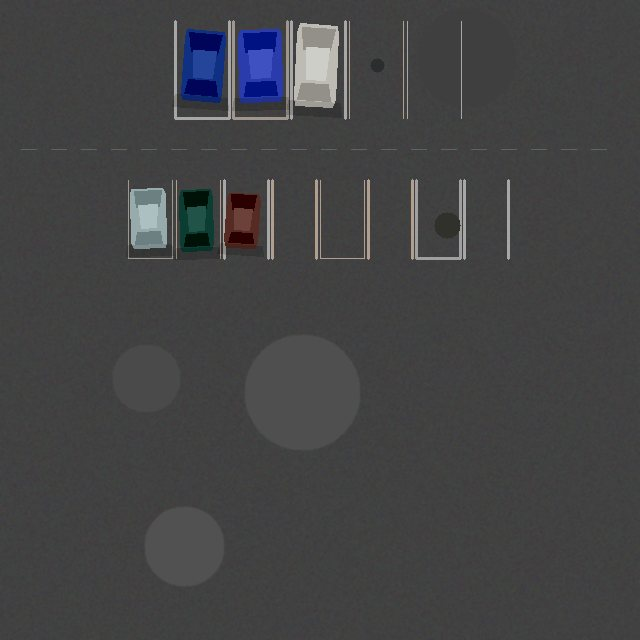space-empty: (349, 21, 403, 118), (407, 21, 461, 118), (272, 180, 316, 258), (320, 180, 364, 258), (368, 180, 412, 258), (416, 180, 460, 258), (464, 180, 508, 258)
space-occupied: (175, 21, 229, 118), (233, 21, 287, 118), (291, 21, 345, 118), (128, 180, 172, 258), (176, 180, 220, 258), (224, 180, 268, 258)
